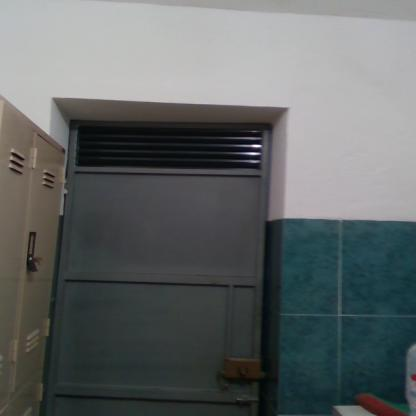closed: (28, 75, 309, 416)
